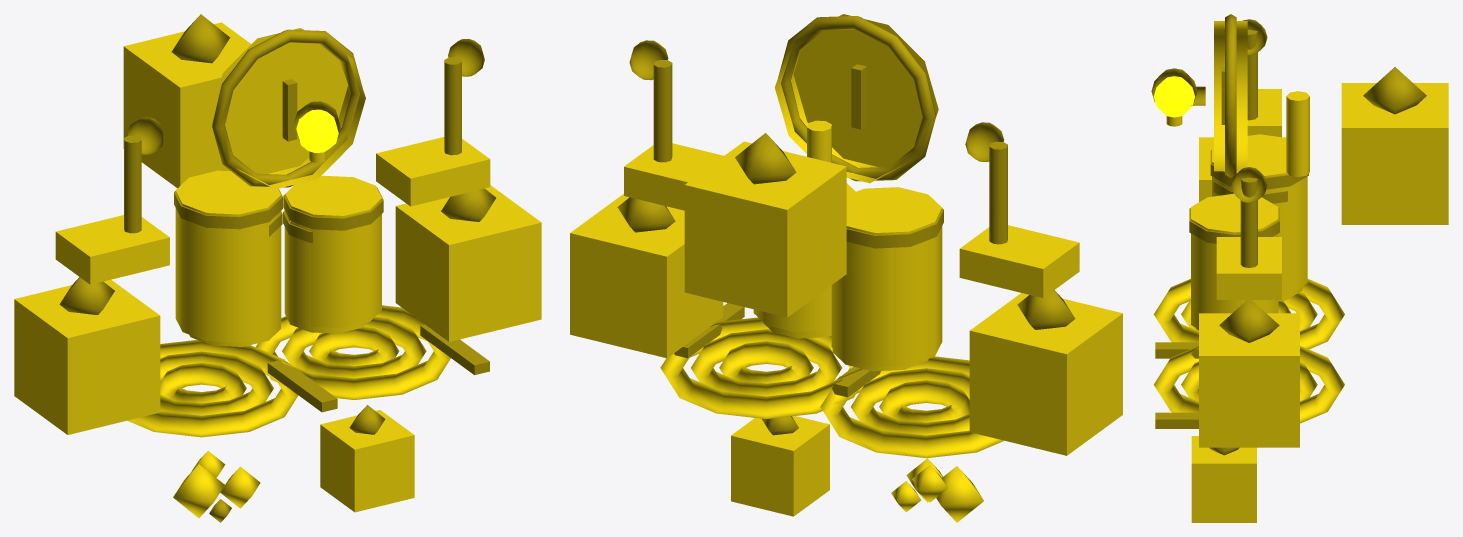
Rendered from golem_087.glb.
3 renders of one model, left to right at view 1: azimuth 30°, elevation 25°; view 2: azimuth 150°, elevation 25°; view 3: azimuth 270°, elevation 25°, orthographic. The views are drawn at different scales.
Parts seen in each view (by area): view 1: Body, Detail, Glow; view 2: Body, Detail; view 3: Body, Detail, Glow.
Boxes of the visible parts, x1=… form: Body: x1=14, y1=22, x2=541, y2=517; Detail: x1=59, y1=14, x2=495, y2=522; Glow: x1=296, y1=109, x2=338, y2=152; Body: x1=570, y1=14, x2=1122, y2=522; Detail: x1=617, y1=16, x2=1075, y2=435; Body: x1=1153, y1=21, x2=1448, y2=522; Detail: x1=1151, y1=14, x2=1426, y2=455; Glow: x1=1153, y1=76, x2=1195, y2=117.
Bounding box in the file's own units: 1.16 × 1.12 × 0.6639.
